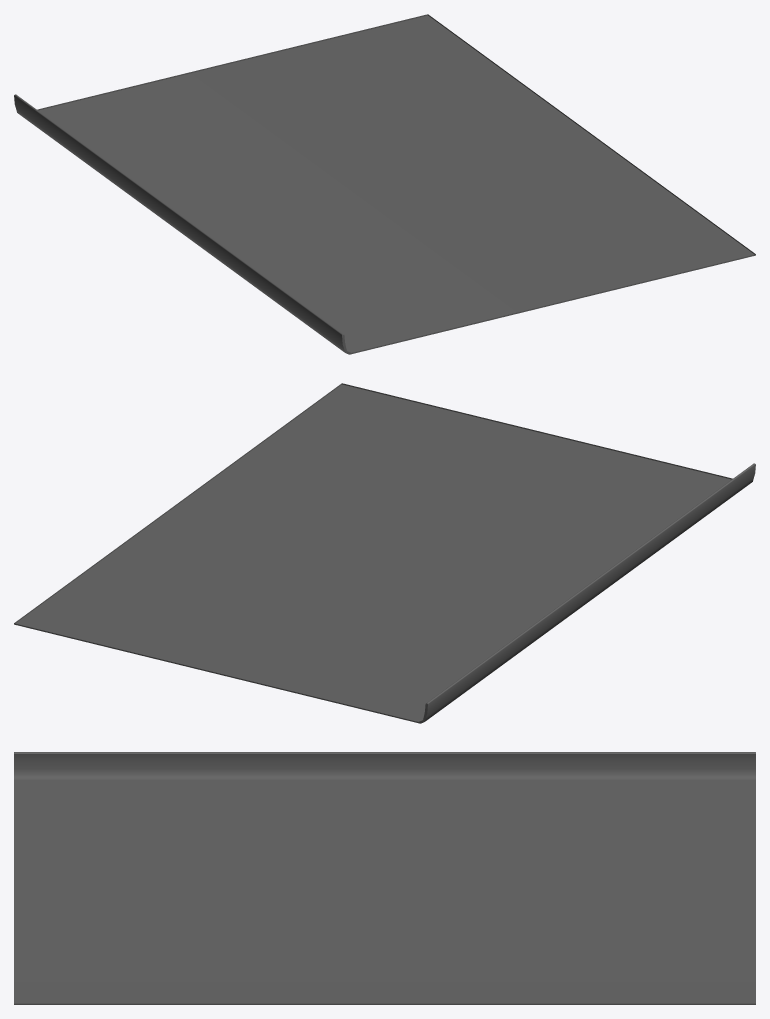
Rendered from Book_29_book_29_2.obj.
3 renders of one model, top to bottom at view 1: azimuth 30°, elevation 25°; view 2: azimuth 150°, elevation 25°; view 3: azimuth 270°, elevation 25°, orthographic. The views are drawn at different scales.
Size of the model in its own units: 0.1573 by 0.00796 by 0.2158.
Materials: 1 (1 with a texture image).
